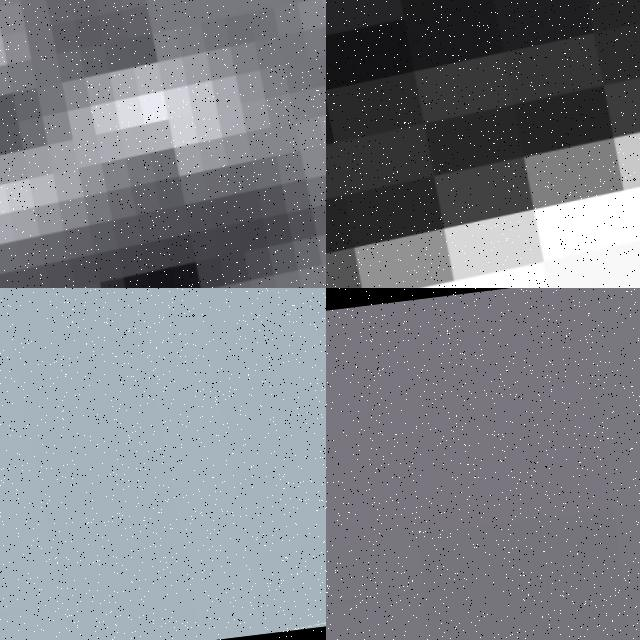0: (0, 0, 326, 288)
drone: (0, 288, 326, 640), (326, 0, 640, 288)
